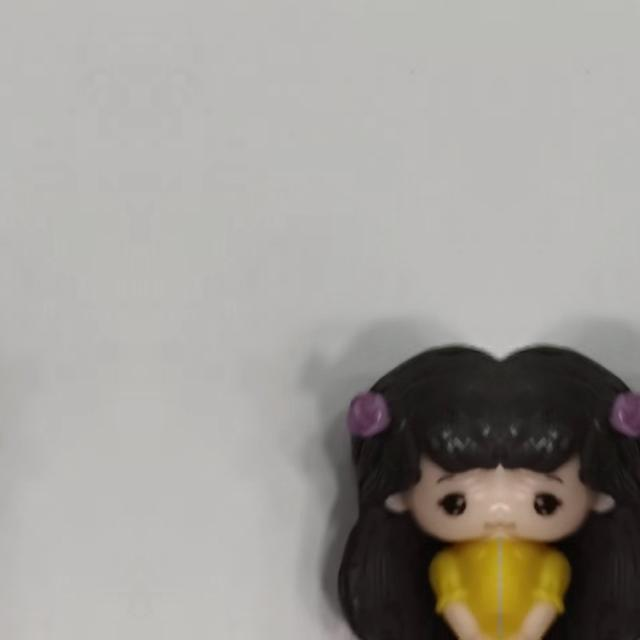woman head: (322, 330, 500, 526), (500, 330, 640, 525)
